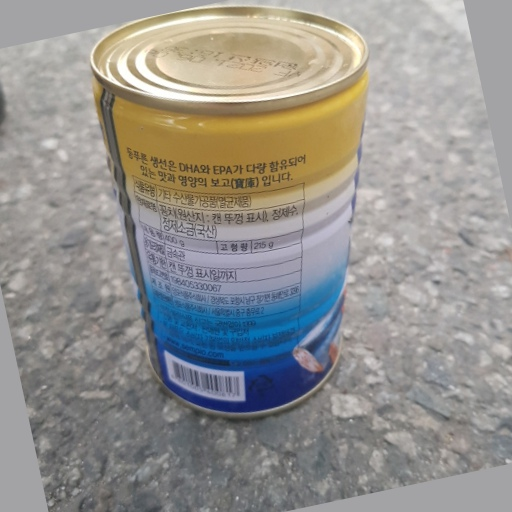Metal_1: (88, 6, 377, 420)
